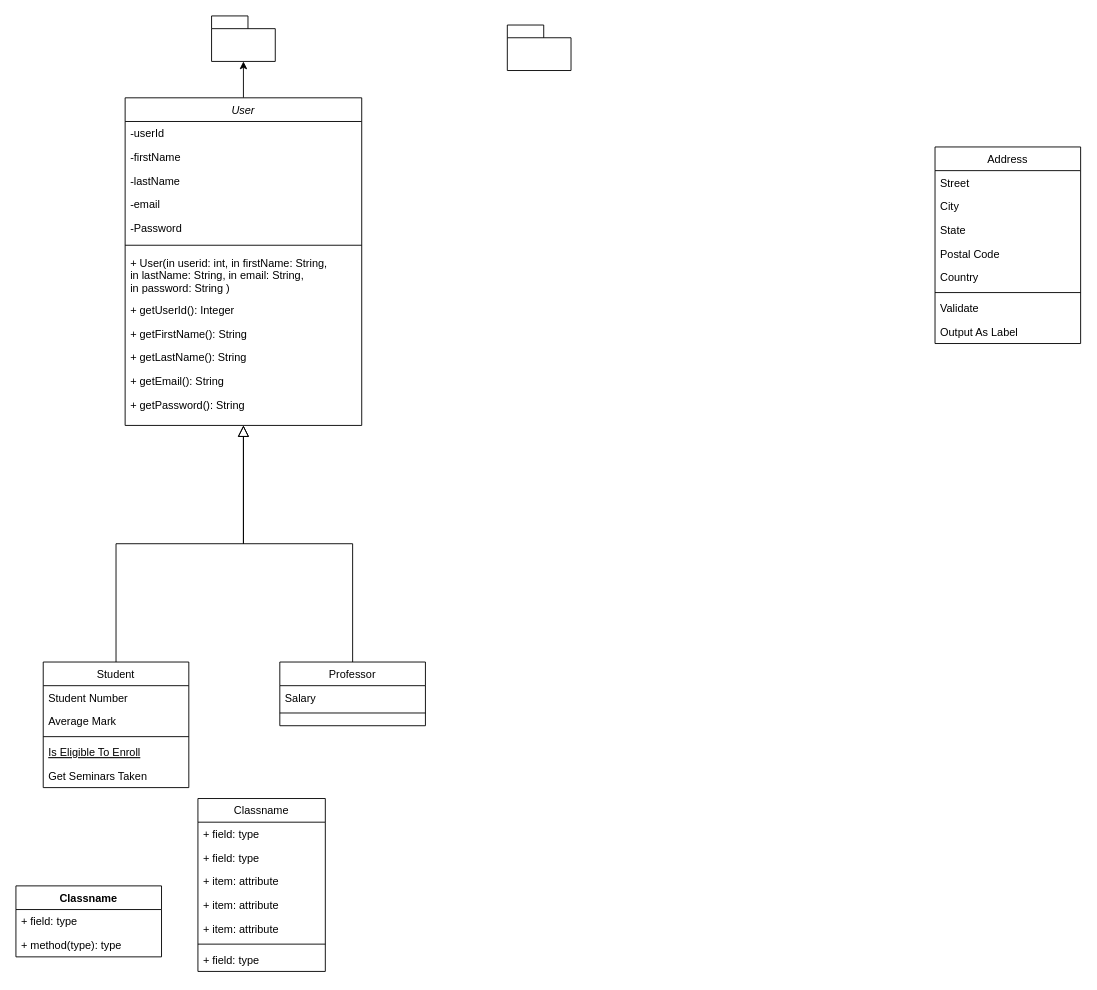
Some shapes in this 1097 by 990 pixel diagram are drawn without their labels. Here are the shapes that lost their labels. From the top down, the centre of each, then its label:
At point 243,38: "Domain".
At point 538,47: "Services".
